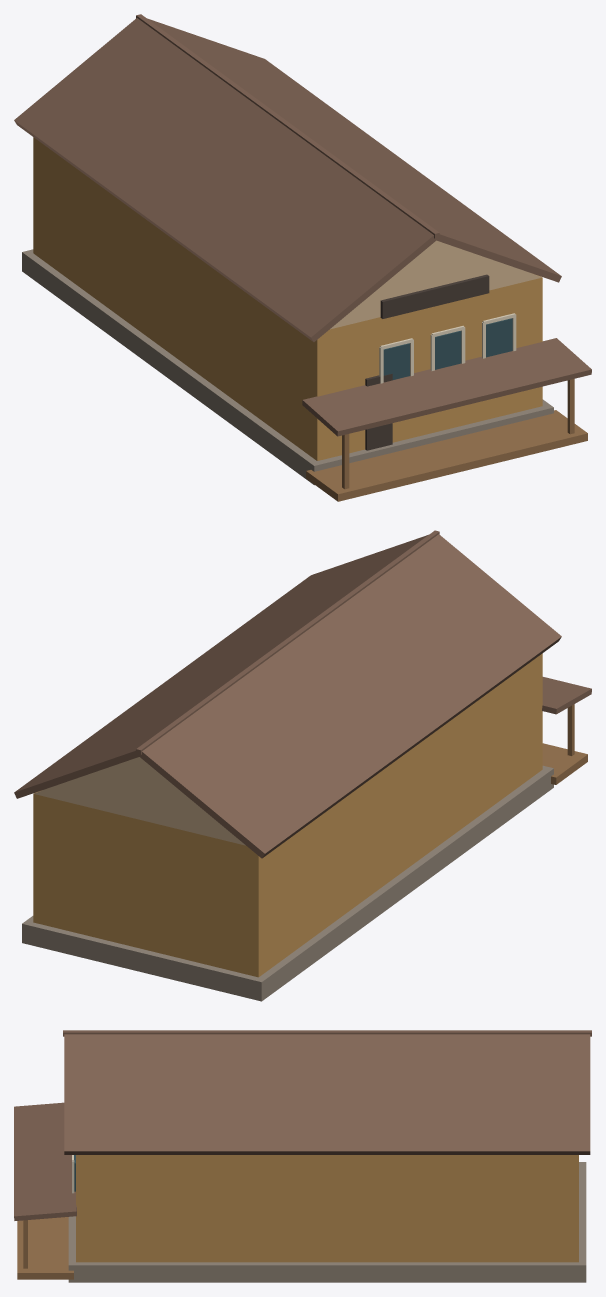
File: arizona-depot_lod0.glb
3 renders of one model, top to bottom at view 1: azimuth 30°, elevation 25°; view 2: azimuth 150°, elevation 25°; view 3: azimuth 270°, elevation 25°, orthographic. The views are drawn at different scales.
Visible parts, largest first — view 1: RF_AZ_Depot_RoofLeft, RF_AZ_Depot_Walls, RF_AZ_Depot_RoofRight, RF_AZ_Depot_PorchRoof, RF_AZ_Depot_Foundation, RF_AZ_Depot_PorchDeck, RF_AZ_Depot_Gable, RF_AZ_Depot_Ridge, RF_AZ_Depot_Sign, RF_AZ_Depot_Window.002, RF_AZ_Depot_Window.001, RF_AZ_Depot_Window (+1 smaller); view 2: RF_AZ_Depot_Walls, RF_AZ_Depot_RoofLeft, RF_AZ_Depot_RoofRight, RF_AZ_Depot_Foundation, RF_AZ_Depot_Gable.001, RF_AZ_Depot_Ridge, RF_AZ_Depot_PorchRoof, RF_AZ_Depot_PorchDeck; view 3: RF_AZ_Depot_RoofRight, RF_AZ_Depot_Walls, RF_AZ_Depot_Foundation, RF_AZ_Depot_PorchRoof, RF_AZ_Depot_PorchDeck, RF_AZ_Depot_Ridge.
Part boxes in pixels (bbox=[...]): RF_AZ_Depot_RoofLeft: bbox=[14, 18, 437, 341]; RF_AZ_Depot_Walls: bbox=[33, 137, 542, 460]; RF_AZ_Depot_RoofRight: bbox=[147, 18, 561, 282]; RF_AZ_Depot_PorchRoof: bbox=[302, 338, 591, 436]; RF_AZ_Depot_Foundation: bbox=[22, 249, 553, 485]; RF_AZ_Depot_PorchDeck: bbox=[306, 410, 587, 501]; RF_AZ_Depot_Gable: bbox=[330, 240, 542, 329]; RF_AZ_Depot_Ridge: bbox=[136, 14, 439, 238]; RF_AZ_Depot_Sign: bbox=[380, 274, 489, 318]; RF_AZ_Depot_Window.002: bbox=[486, 318, 512, 357]; RF_AZ_Depot_Window.001: bbox=[435, 331, 461, 369]; RF_AZ_Depot_Window: bbox=[383, 343, 409, 379]; RF_AZ_Depot_Walls: bbox=[33, 653, 542, 977]; RF_AZ_Depot_RoofLeft: bbox=[138, 534, 561, 858]; RF_AZ_Depot_RoofRight: bbox=[14, 534, 428, 798]; RF_AZ_Depot_Foundation: bbox=[22, 765, 553, 1001]; RF_AZ_Depot_Gable.001: bbox=[33, 757, 245, 845]; RF_AZ_Depot_Ridge: bbox=[136, 530, 439, 754]; RF_AZ_Depot_PorchRoof: bbox=[542, 677, 591, 714]; RF_AZ_Depot_PorchDeck: bbox=[542, 743, 587, 784]; RF_AZ_Depot_RoofRight: bbox=[64, 1034, 590, 1154]; RF_AZ_Depot_Walls: bbox=[76, 1155, 578, 1262]; RF_AZ_Depot_Foundation: bbox=[68, 1162, 586, 1282]; RF_AZ_Depot_PorchRoof: bbox=[14, 1102, 76, 1220]; RF_AZ_Depot_PorchDeck: bbox=[17, 1217, 73, 1279]; RF_AZ_Depot_Ridge: bbox=[63, 1030, 591, 1036].
Bounding box in the file's own units: 12.4 × 10.49 × 27.58.
